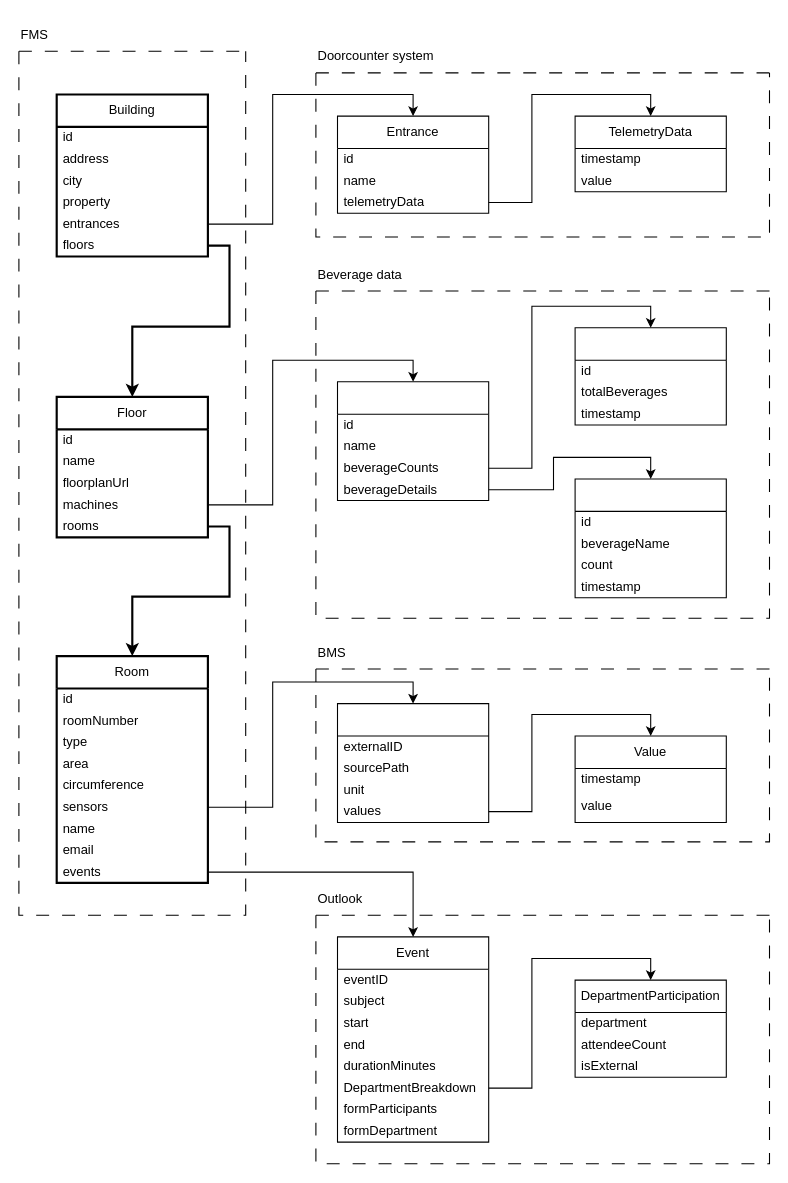
Image size: 788x1183. Some labels were removed from this diagram. Here are the shapes that lost their labels. From the top down, the box of each, then its label:
(574, 327, 726, 425): BeverageCount
(336, 381, 489, 501): Machine
(574, 478, 726, 598): BeverageDetail
(336, 703, 489, 822): Sensor
